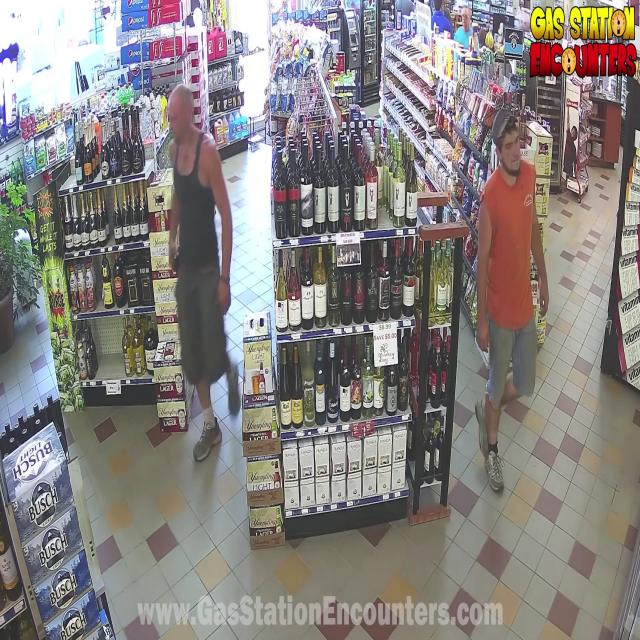normal: (460, 93, 571, 507), (133, 72, 248, 468)
